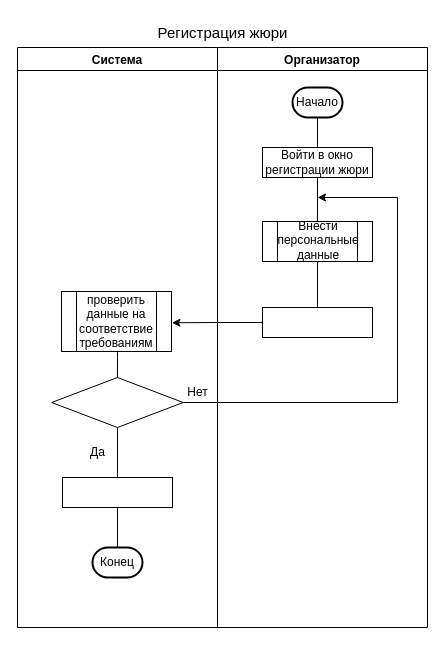
Some shapes in this 445 by 645 pixel diagram are drawn without their labels. Each missing label, with the centre of its shape:
"Данные коректные ?" goes at (x=117, y=402).
"Добавить в базу данные" goes at (x=117, y=492).
"Нажать на кнопку создания" goes at (x=317, y=322).
